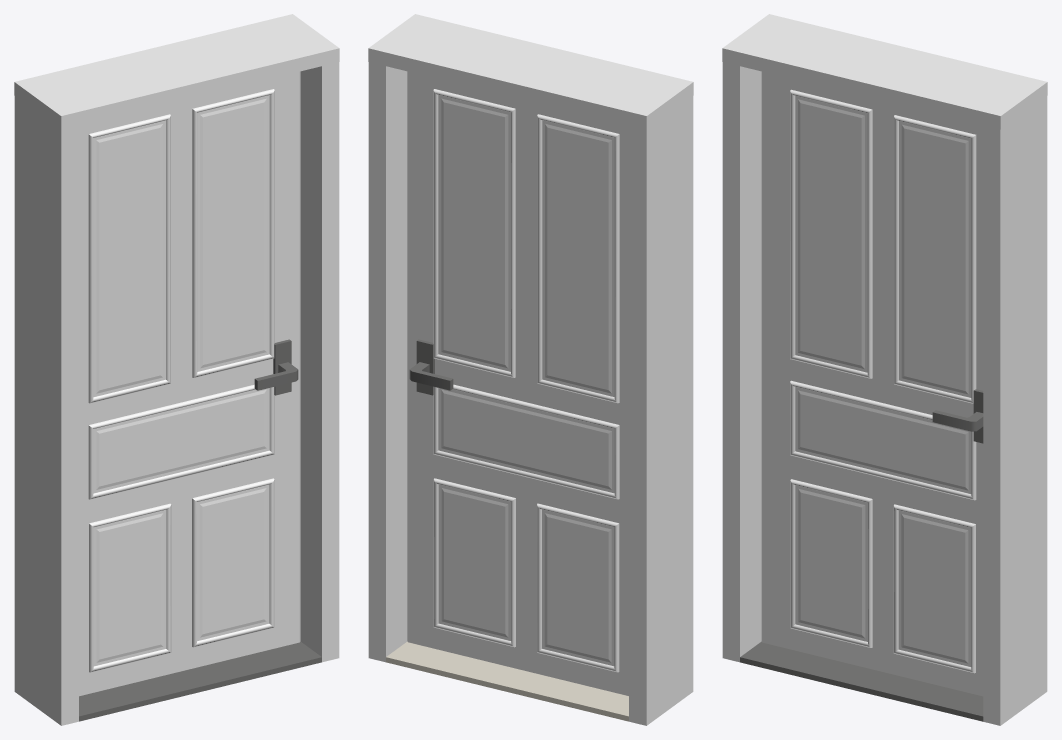
Rendered from Door_01.fbx.
The picture shows the model from 3 angles, left to right: view 1: azimuth 30°, elevation 25°; view 2: azimuth 150°, elevation 25°; view 3: azimuth 330°, elevation 25°; orthographic projection.
Parts seen in each view (by area): view 1: Door_01, Door_01_Frame; view 2: Door_01, Door_01_Frame; view 3: Door_01, Door_01_Frame.
Part boxes in pixels (left/top/right/bottom): Door_01: left=79, top=71, right=300, bottom=696; Door_01_Frame: left=14, top=14, right=339, bottom=725; Door_01: left=407, top=71, right=628, bottom=695; Door_01_Frame: left=368, top=14, right=693, bottom=725; Door_01: left=761, top=71, right=983, bottom=696; Door_01_Frame: left=722, top=14, right=1047, bottom=725.
Bounding box in the file's own units: 1.03 × 2.16 × 0.3.
